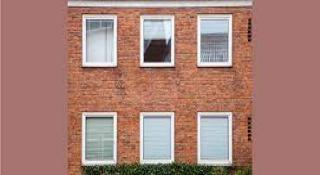Square: (140, 109, 176, 166), (197, 12, 233, 68), (139, 14, 176, 67), (82, 12, 117, 68), (197, 112, 233, 166), (82, 110, 117, 164)
